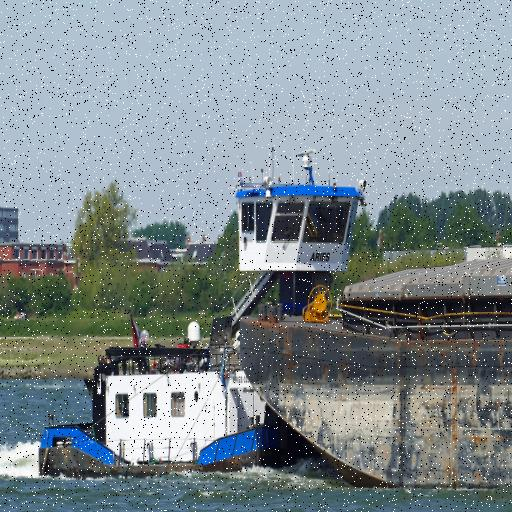tugboat: (38, 145, 399, 485)
